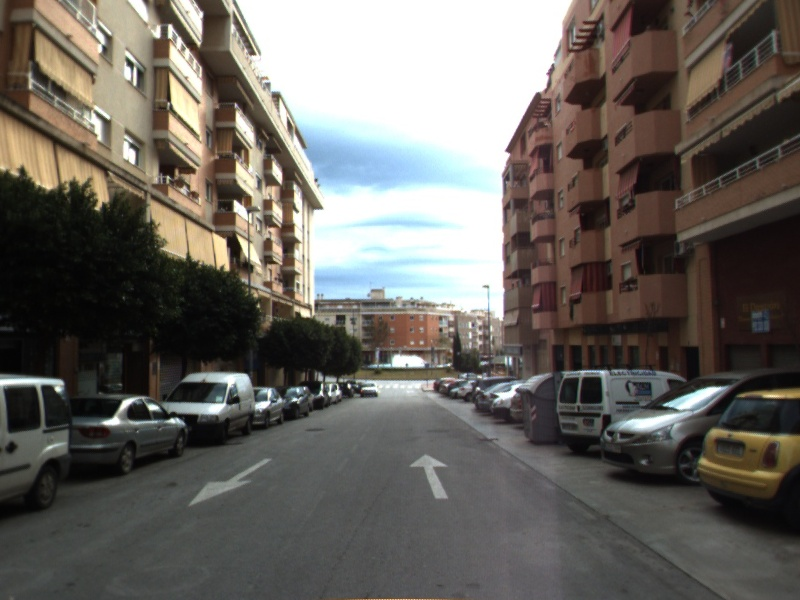STRAIGHT: (407, 452, 451, 501)
